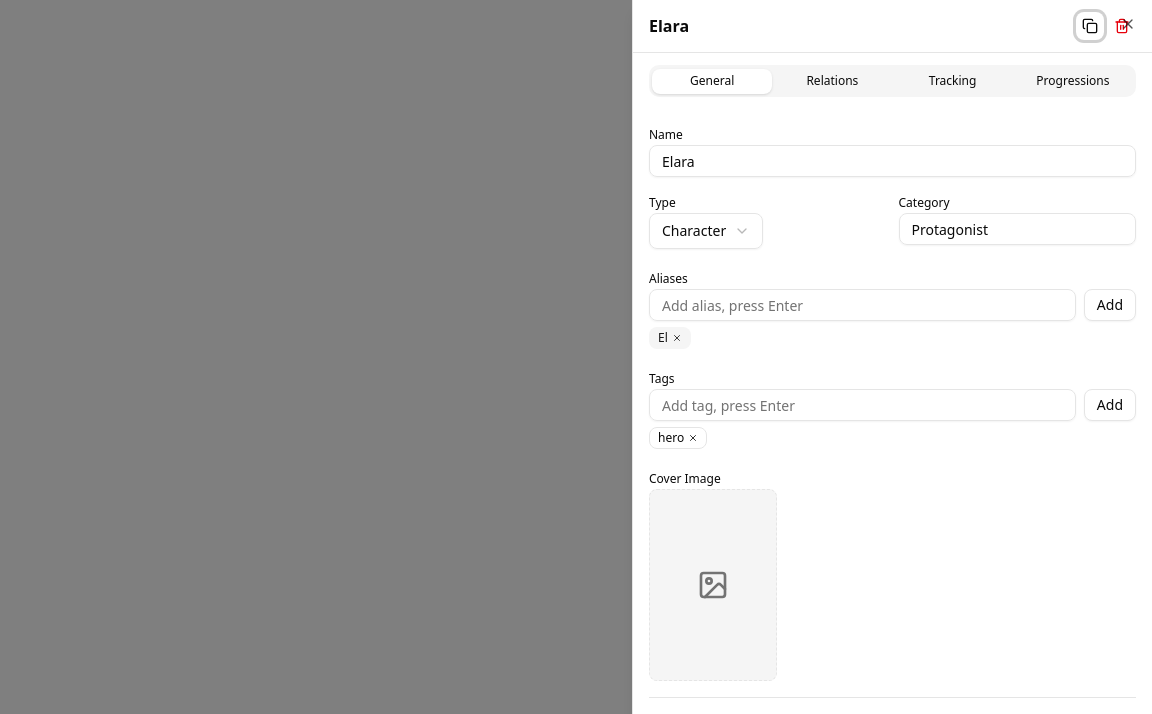
Test: EntryEditor — edit mode tabs › Tracking tab: shows tracking toggles
Step 1. Click the tab "Tracking" → (953,81), box [892,68,1013,94]
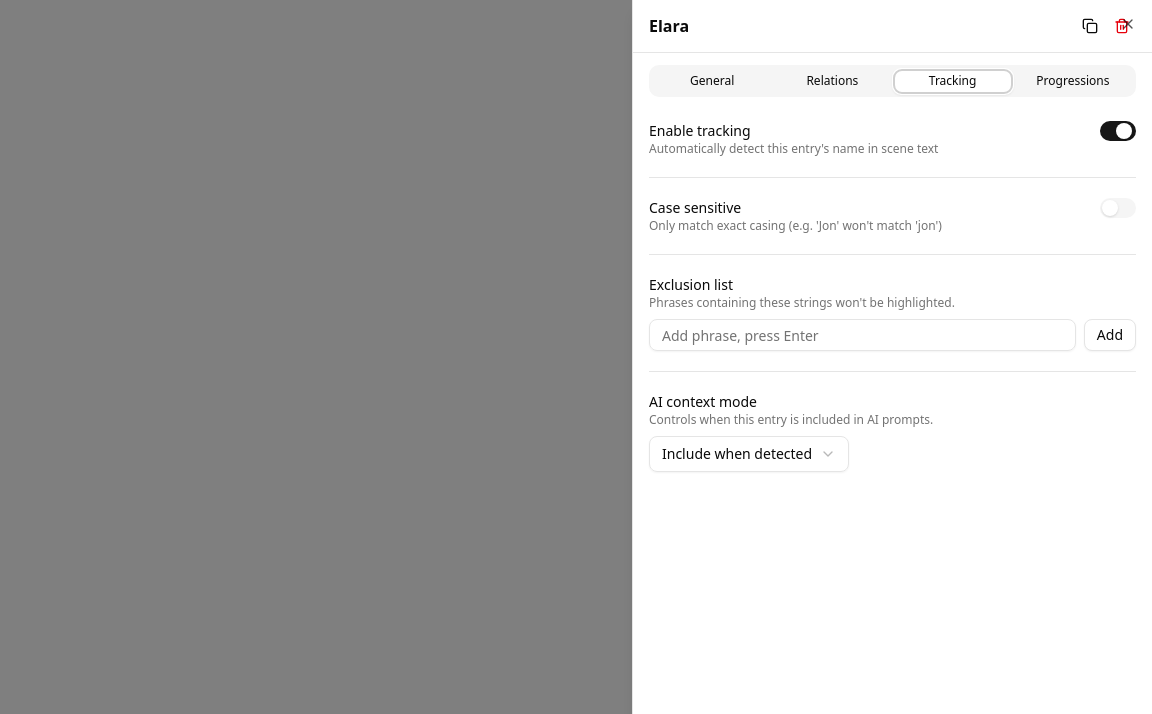
Expected: the text "Enable tracking" is shown, [649,121,750,140]
Expected: the text "Case sensitive" is shown, [649,198,741,217]
